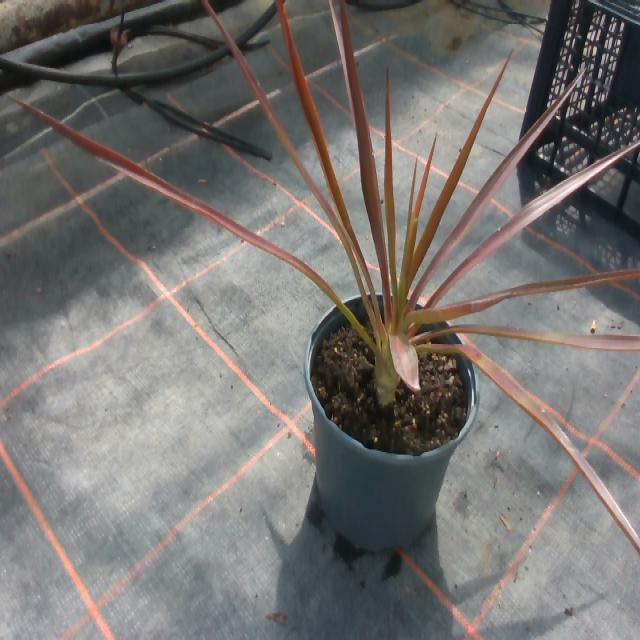Yucca-aloifolia: (12, 99, 354, 320), (204, 0, 365, 293), (432, 344, 639, 552), (411, 75, 581, 303), (432, 141, 639, 301), (277, 0, 363, 259), (411, 59, 507, 280), (340, 0, 389, 305), (409, 269, 639, 321), (401, 137, 434, 292), (452, 324, 639, 349), (384, 71, 397, 301), (390, 335, 418, 391), (413, 276, 426, 299)
